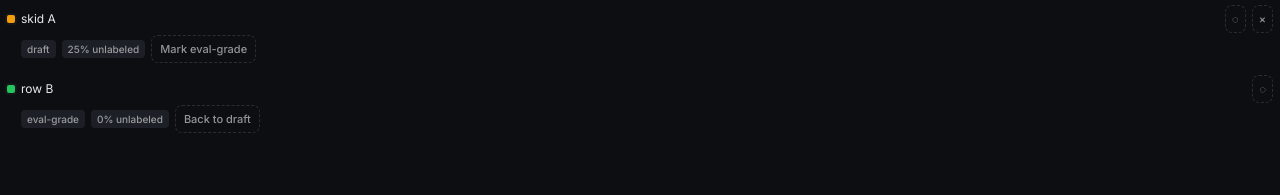
RegionPanel › surfaces a failed flip inline on the row, not in the console
Click the button "Mark eval-grade".
click(204, 49)  # box [151,35,256,63]
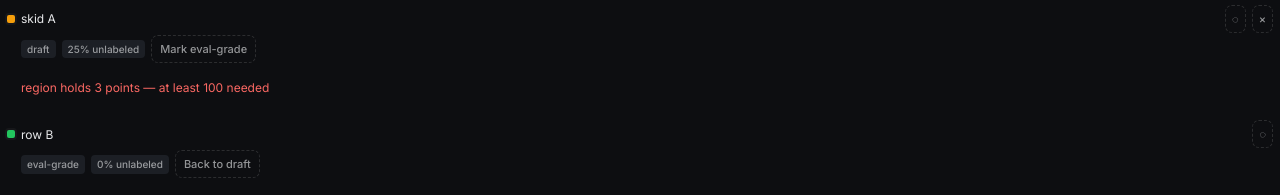
Now the text "region holds 3 points — at least 100 needed" is shown, box [21,80,269,95]
